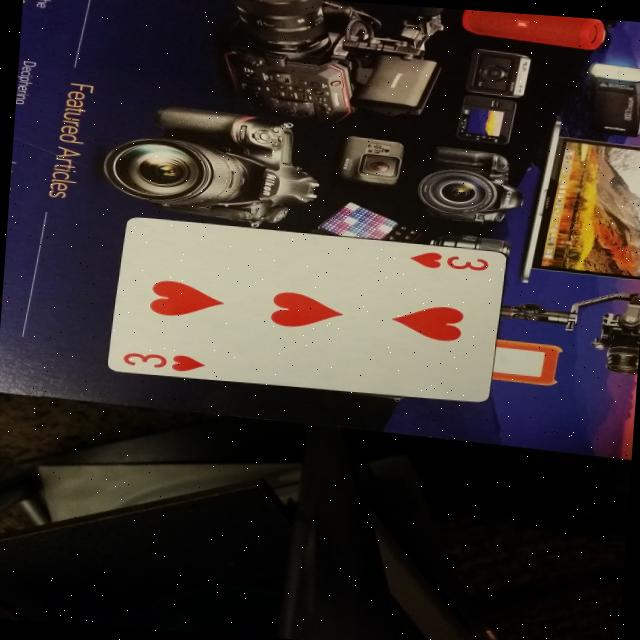3h: (400, 242, 496, 280), (117, 342, 219, 376)
